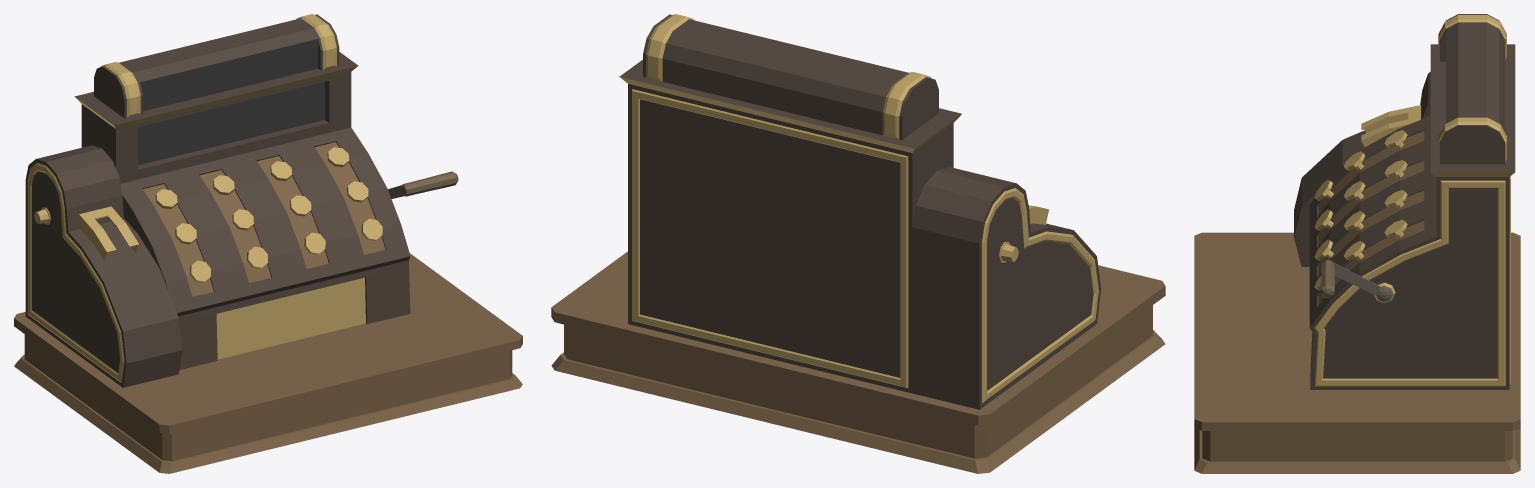
The model's file is CashRegister_Mesh.fbx.
3 views of the same model, side by side, from view 1: azimuth 30°, elevation 25°; view 2: azimuth 150°, elevation 25°; view 3: azimuth 270°, elevation 25° (orthographic). The views are drawn at different scales.
Parts seen in each view (by area): view 1: pCylinder39; view 2: pCylinder39; view 3: pCylinder39.
Part boxes in pixels (x1=…): pCylinder39: x1=14, y1=14, x2=522, y2=473; pCylinder39: x1=551, y1=14, x2=1165, y2=473; pCylinder39: x1=1194, y1=14, x2=1520, y2=473.
Bounding box in the file's own units: 49.46 × 37.9 × 35.97.
